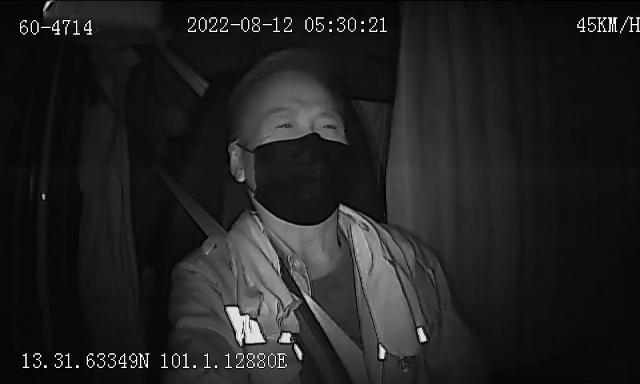SafeDriving: (314, 113, 344, 134), (268, 114, 300, 133)
Seatbelt: (154, 158, 372, 384)
